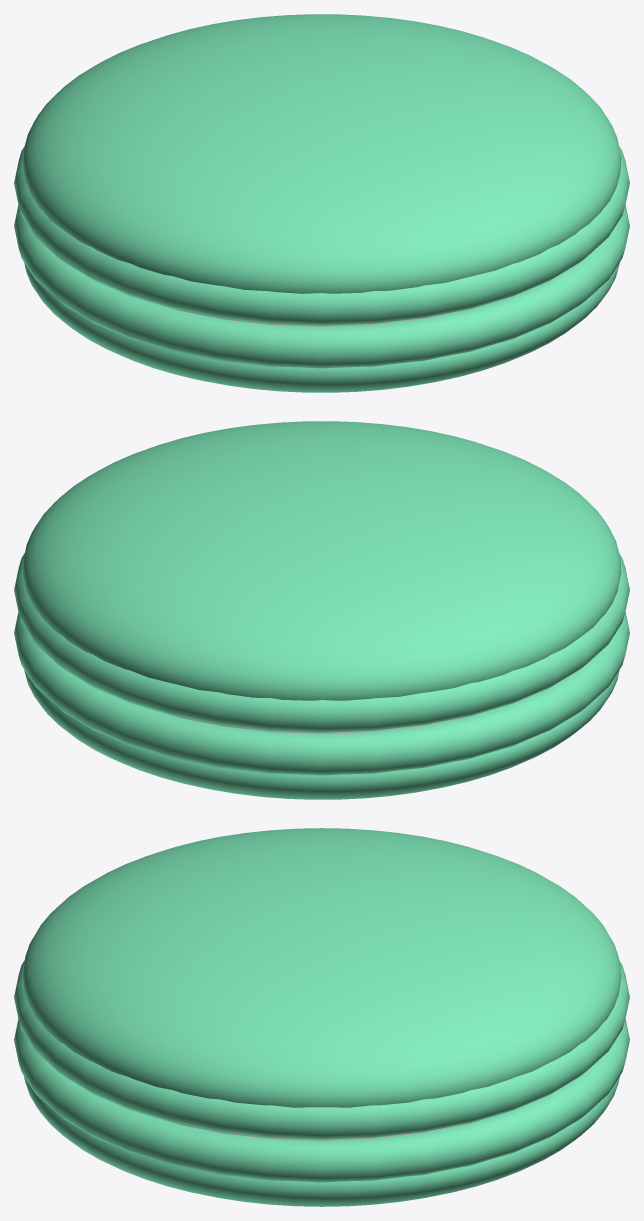
Rendered from macaron_cushion.glb.
The picture shows the model from 3 angles, top to bottom: view 1: azimuth 30°, elevation 25°; view 2: azimuth 150°, elevation 25°; view 3: azimuth 270°, elevation 25°; orthographic projection.
Visible parts, largest first — view 1: Sphere.124, Torus, Torus.001, Sphere.123; view 2: Sphere.124, Torus, Torus.001, Sphere.123; view 3: Sphere.124, Torus, Torus.001, Sphere.123.
Boxes of the visible parts, x1,y1,x2,y2 form: Sphere.124: [22, 14, 621, 293]; Torus: [14, 205, 629, 368]; Torus.001: [14, 146, 629, 325]; Sphere.123: [24, 262, 619, 392]; Sphere.124: [22, 421, 621, 700]; Torus: [14, 612, 629, 775]; Torus.001: [14, 553, 629, 732]; Sphere.123: [24, 669, 619, 799]; Sphere.124: [22, 828, 621, 1107]; Torus: [14, 1019, 629, 1182]; Torus.001: [14, 960, 629, 1139]; Sphere.123: [24, 1076, 619, 1206].
Size of the model in its own units: 0.914 by 0.3784 by 0.914.
